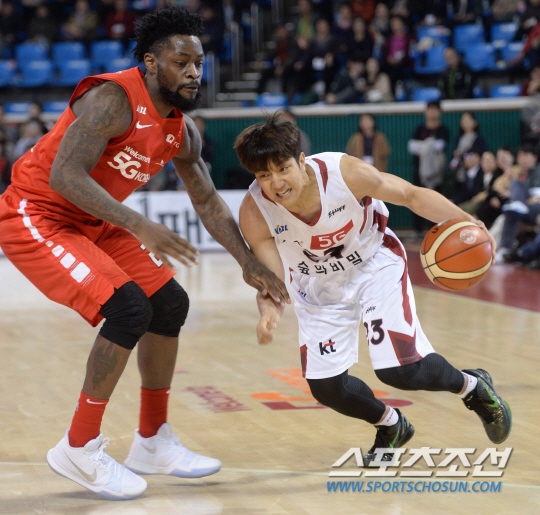breakthrough: (224, 108, 521, 483)
defense: (2, 10, 238, 498)
